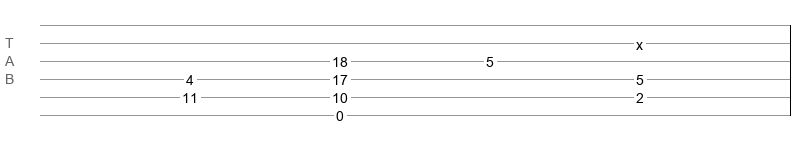0: (336, 108, 344, 118)
10: (332, 90, 348, 100)
11: (182, 90, 198, 100)
17: (332, 72, 348, 82)
18: (332, 54, 348, 64)
2: (636, 90, 644, 100)
4: (186, 72, 194, 82)
5: (486, 54, 494, 64), (636, 72, 644, 82)
x: (636, 37, 643, 45)
